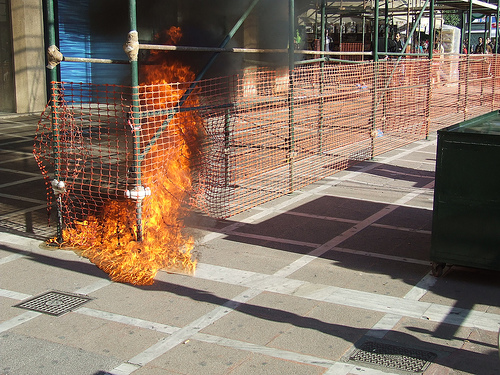fire: (56, 85, 197, 281)
